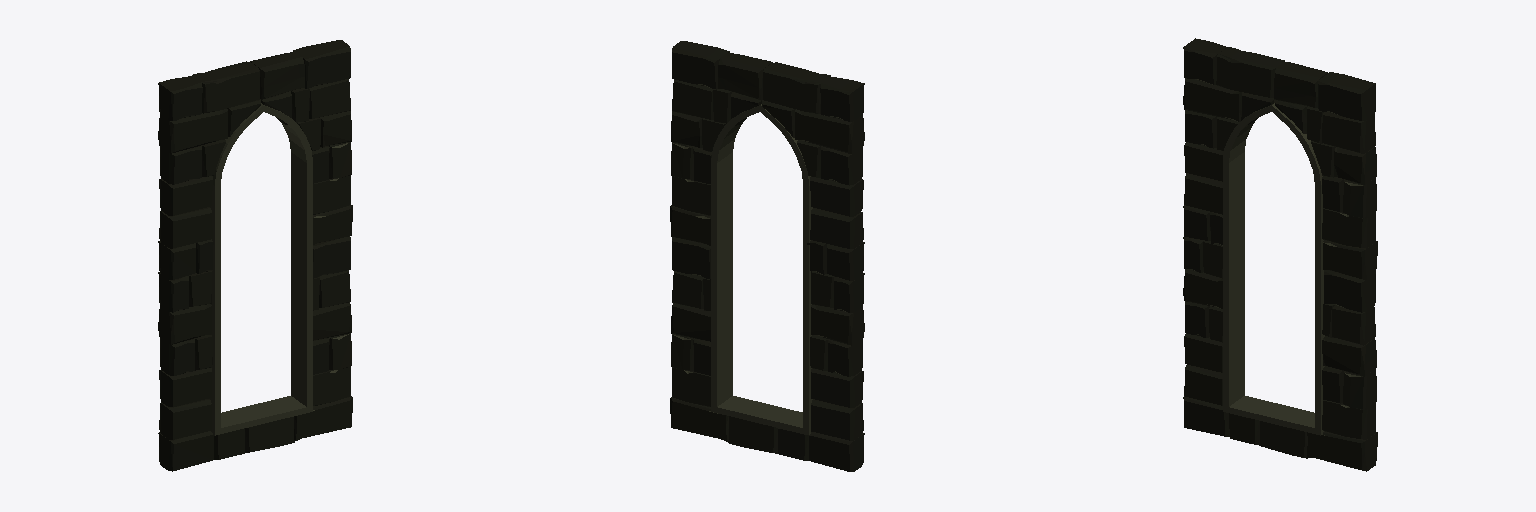
File: Window_Open_Double.obj
3 views of the same model, side by side, from view 1: azimuth 30°, elevation 25°; view 2: azimuth 150°, elevation 25°; view 3: azimuth 330°, elevation 25° (orthographic).
Parts seen in each view (by area): view 1: Window_Open_Double_Cube.656; view 2: Window_Open_Double_Cube.656; view 3: Window_Open_Double_Cube.656.
Boxes of the visible parts, <box> form: Window_Open_Double_Cube.656: <box>158,40,352,471</box>; Window_Open_Double_Cube.656: <box>670,41,864,471</box>; Window_Open_Double_Cube.656: <box>1183,38,1377,471</box>.
Size of the model in its own units: 1.99 by 3.99 by 0.3044.